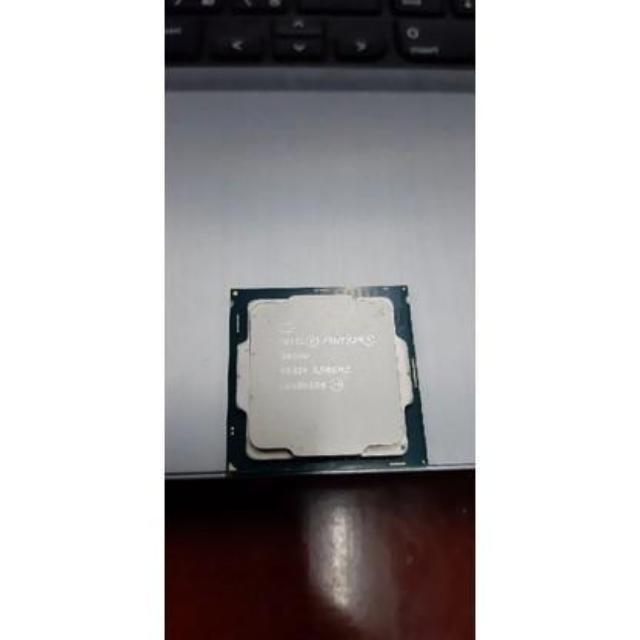CPU: (230, 292, 428, 472)
